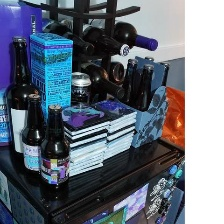bottle: (3, 32, 42, 160), (57, 12, 131, 58), (87, 12, 161, 52), (38, 101, 68, 194), (70, 57, 126, 100), (18, 91, 46, 175), (42, 15, 96, 58), (132, 61, 156, 114), (87, 57, 127, 83), (120, 57, 140, 106), (157, 60, 173, 89)
